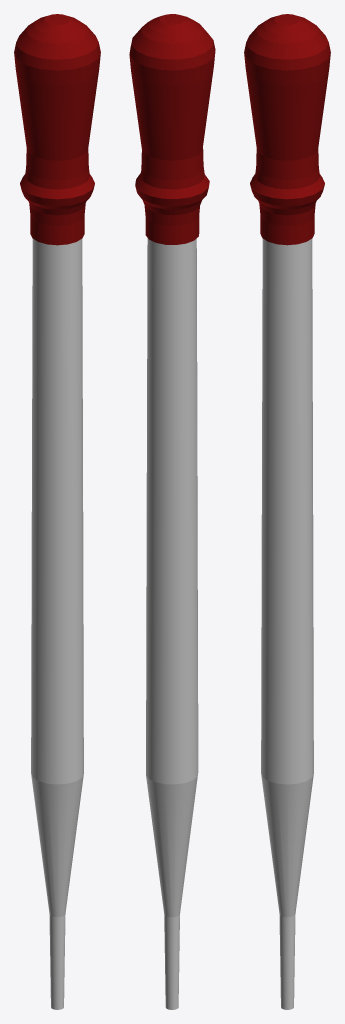
The model's file is 胶头滴管.fbx.
The picture shows the model from 3 angles, left to right: view 1: azimuth 90°, elevation 25°; view 2: azimuth 210°, elevation 25°; view 3: azimuth 270°, elevation 25°; orthographic projection.
Parts seen in each view (by area): view 1: Line001, Line002; view 2: Line001, Line002; view 3: Line001, Line002.
Part boxes in pixels (x1,y1,x2,y2): Line001: (31, 239, 83, 1009); Line002: (14, 14, 100, 245); Line001: (146, 238, 198, 1009); Line002: (129, 14, 215, 244); Line001: (261, 238, 313, 1009); Line002: (244, 14, 330, 245).
Size of the model in its own units: 78.99 by 992 by 78.99.
